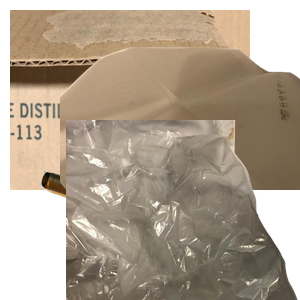cardboard: (10, 10, 250, 190)
glass: (37, 168, 242, 300)
plastic: (60, 44, 300, 224)
trash: (66, 120, 300, 300)
